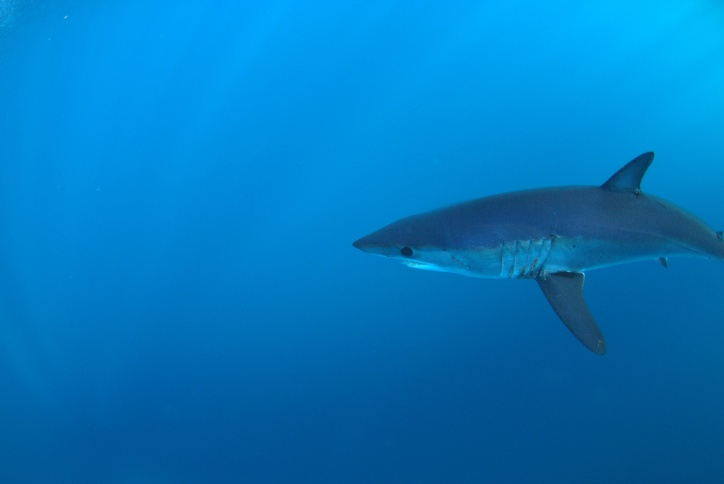Mako: (345, 142, 724, 362)
